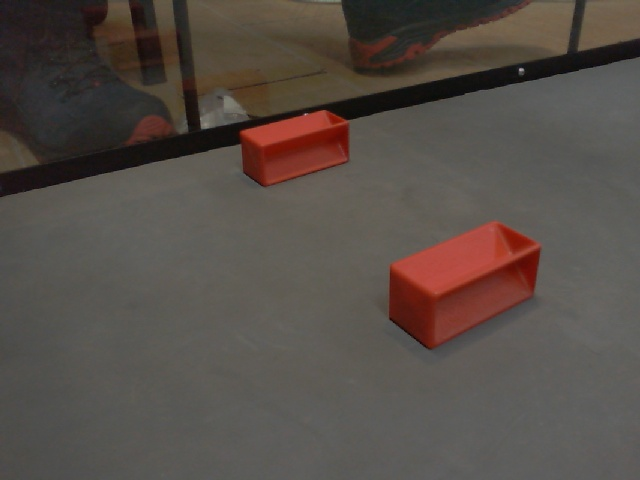RedSample: (391, 217, 541, 352), (235, 107, 354, 188)
